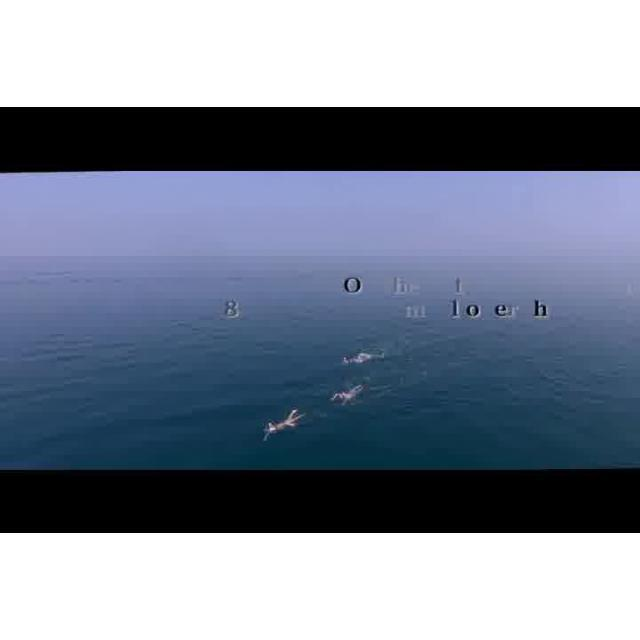human: (266, 405, 306, 437), (330, 382, 365, 407), (342, 346, 372, 368)
